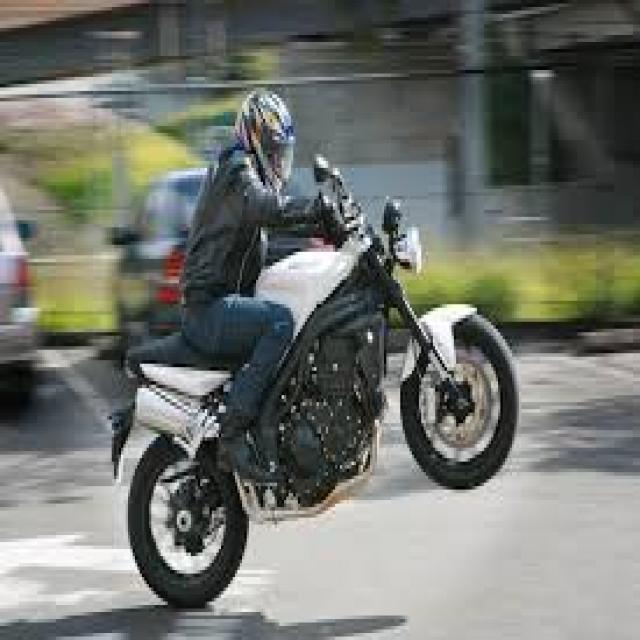Wheeling: (143, 0, 531, 623)
